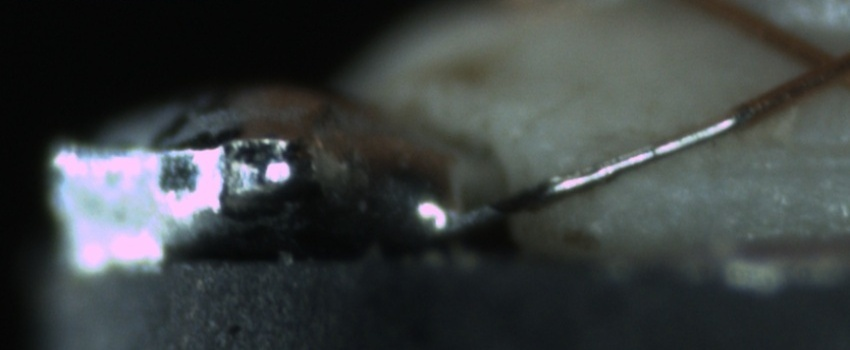CL: (780, 32, 848, 94)
DL: (697, 122, 850, 192)
TS: (424, 104, 742, 235)
